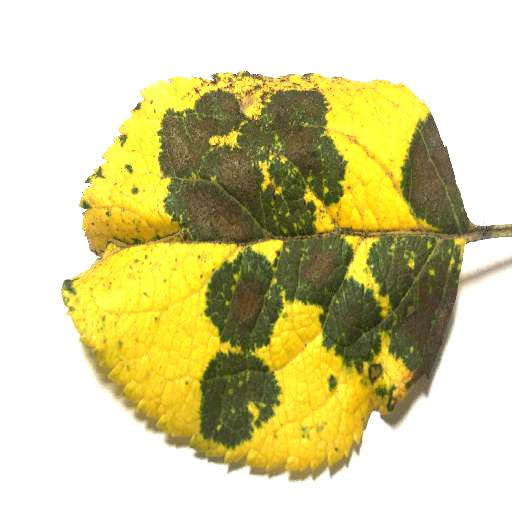Brown_Spot: (163, 97, 312, 248), (408, 143, 460, 224), (399, 272, 449, 340), (222, 276, 268, 332), (301, 244, 338, 292)
